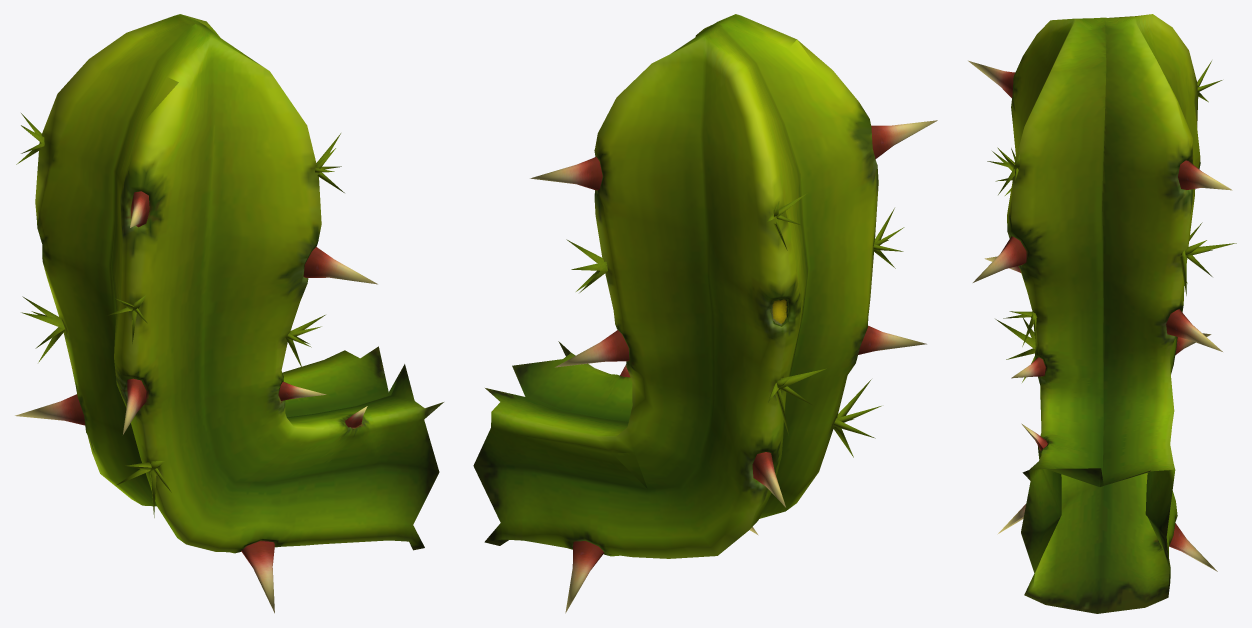
File: cactus_brazo_der.obj
The picture shows the model from 3 angles, left to right: view 1: azimuth 30°, elevation 25°; view 2: azimuth 150°, elevation 25°; view 3: azimuth 270°, elevation 25°; orthographic projection. The views are drawn at different scales.
Visible parts, largest first — view 1: cactus_brazo_der; view 2: cactus_brazo_der; view 3: cactus_brazo_der.
Part boxes in pixels (x1,y1,x2,y2): cactus_brazo_der: (15, 14, 443, 613); cactus_brazo_der: (473, 14, 937, 613); cactus_brazo_der: (968, 14, 1236, 613).
Bounding box in the file's own units: 0.2871 × 0.4363 × 0.2081.
